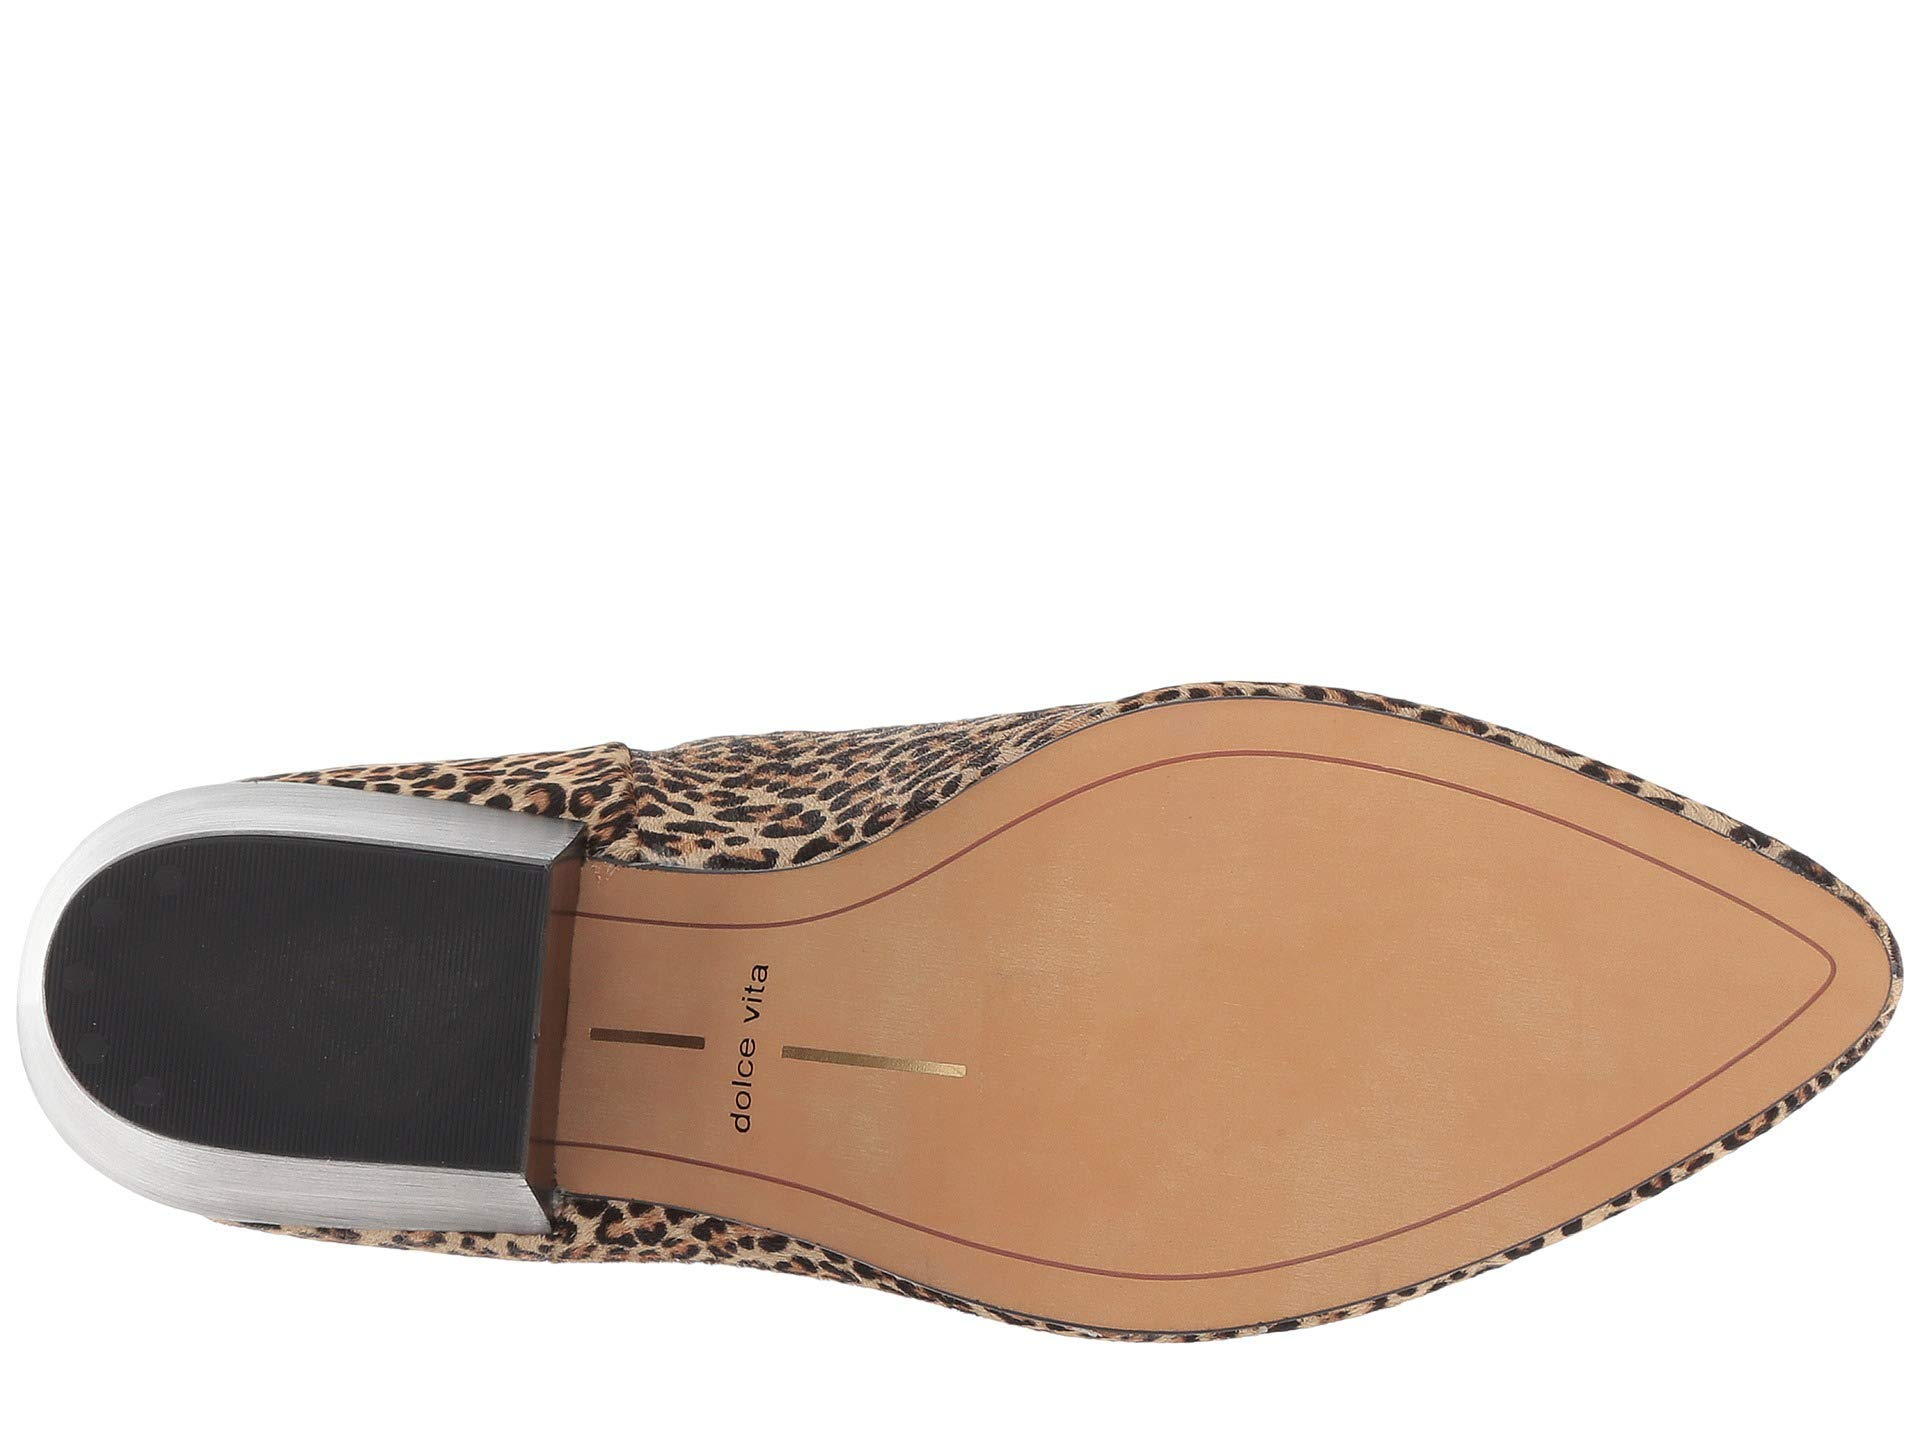circle: (565, 912, 1010, 1192)
line: (565, 912, 1010, 1192)
text: (565, 912, 1010, 1192)
